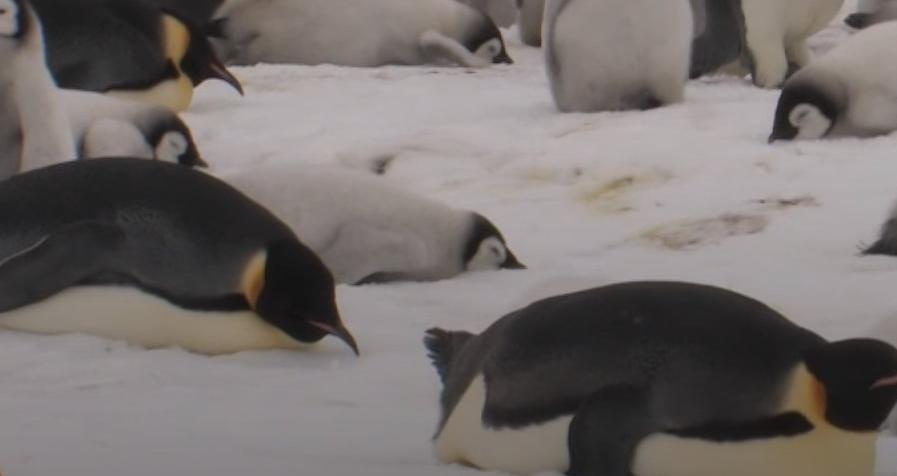Emperor Penguin: (422, 271, 897, 469), (0, 149, 388, 357), (0, 0, 312, 150), (684, 0, 893, 83), (82, 0, 278, 26), (871, 101, 897, 265)
